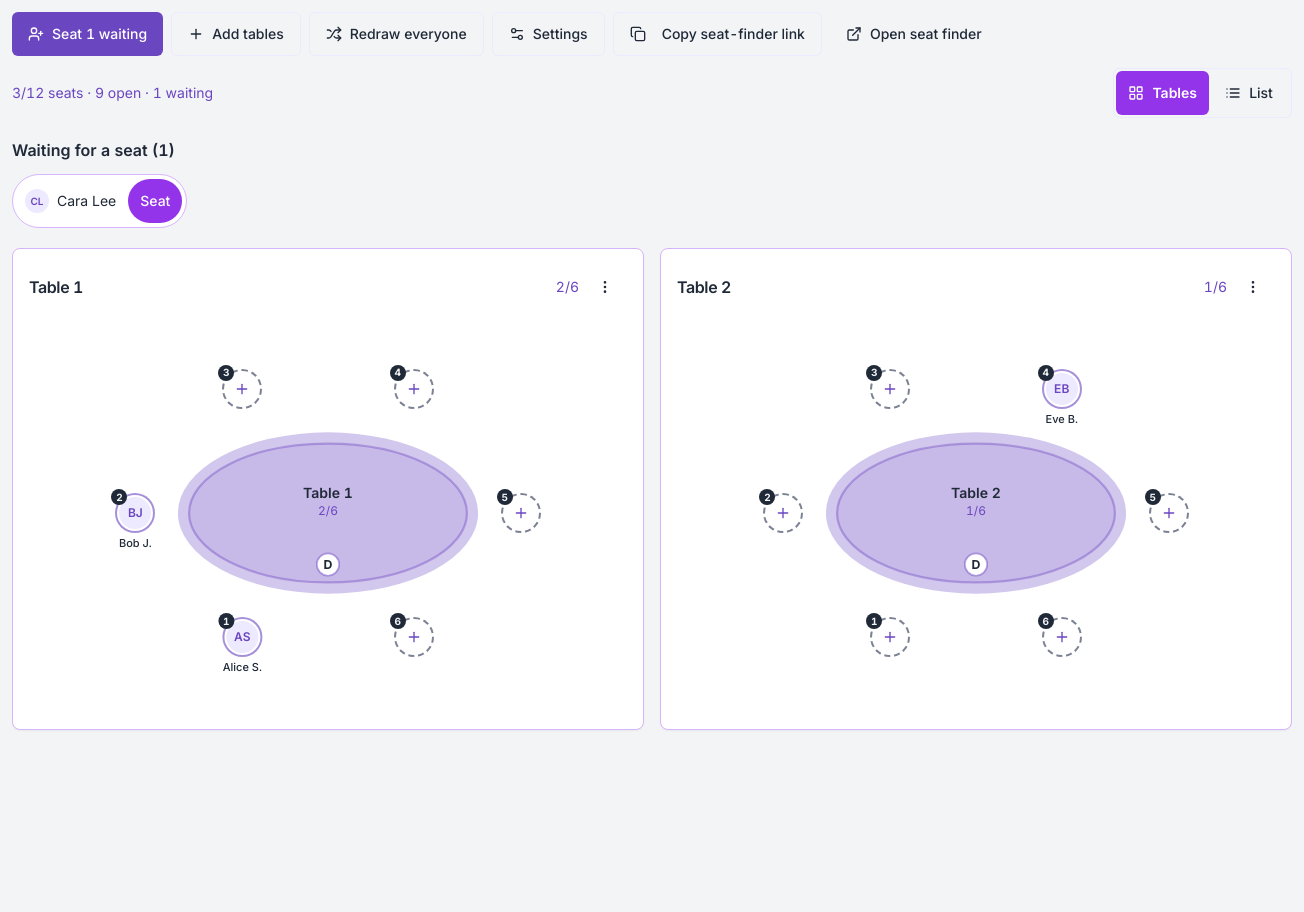
SeatingPanel: moving players by hand › unseats the player picked up, and puts a player down with Cancel
Click the button with aria-label "Seat 1: Alice Smith".
click(242, 646)  # box [219,617,266,675]
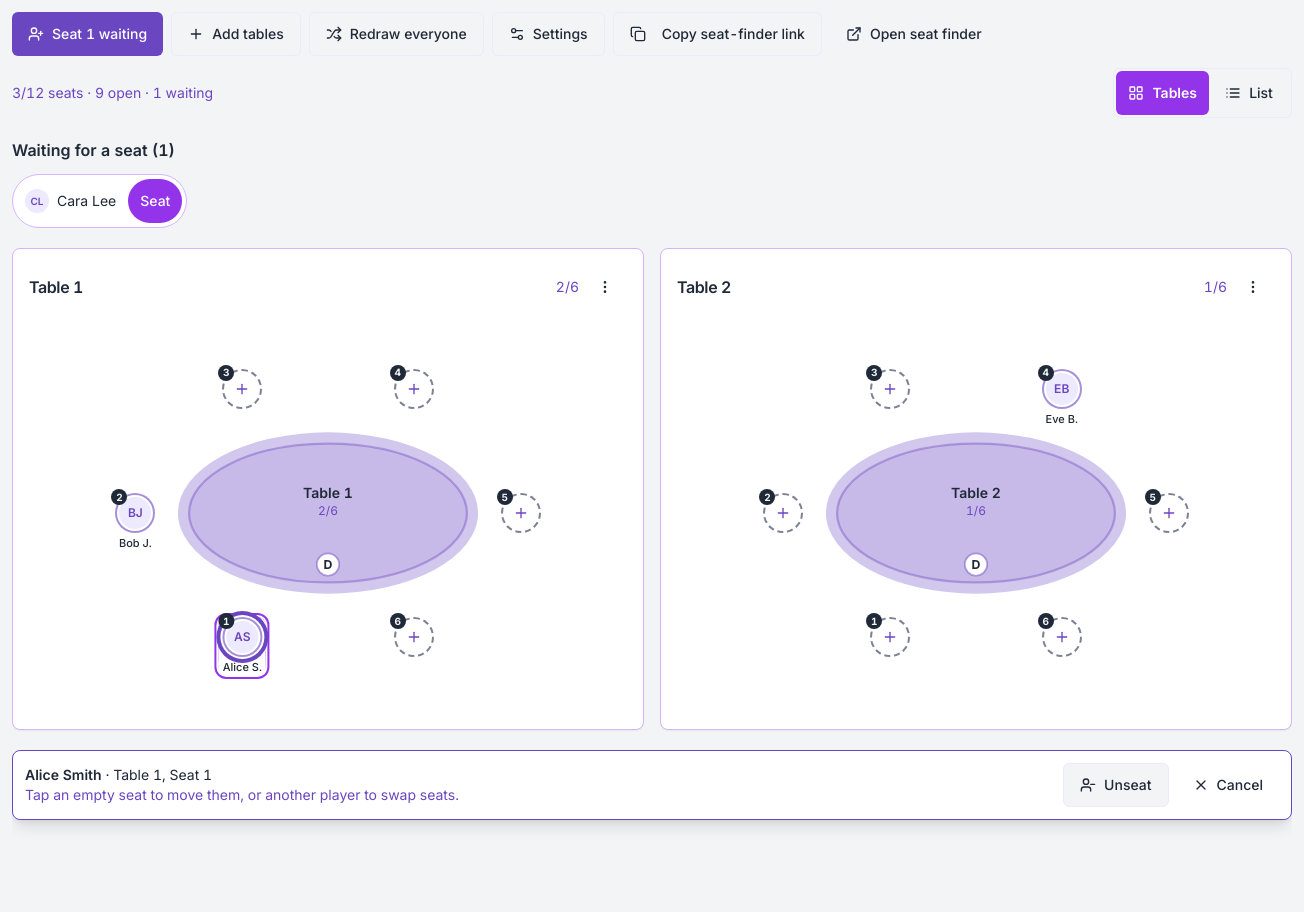
Click the button "Cancel".
click(1228, 785)  # box [1176,763,1279,807]
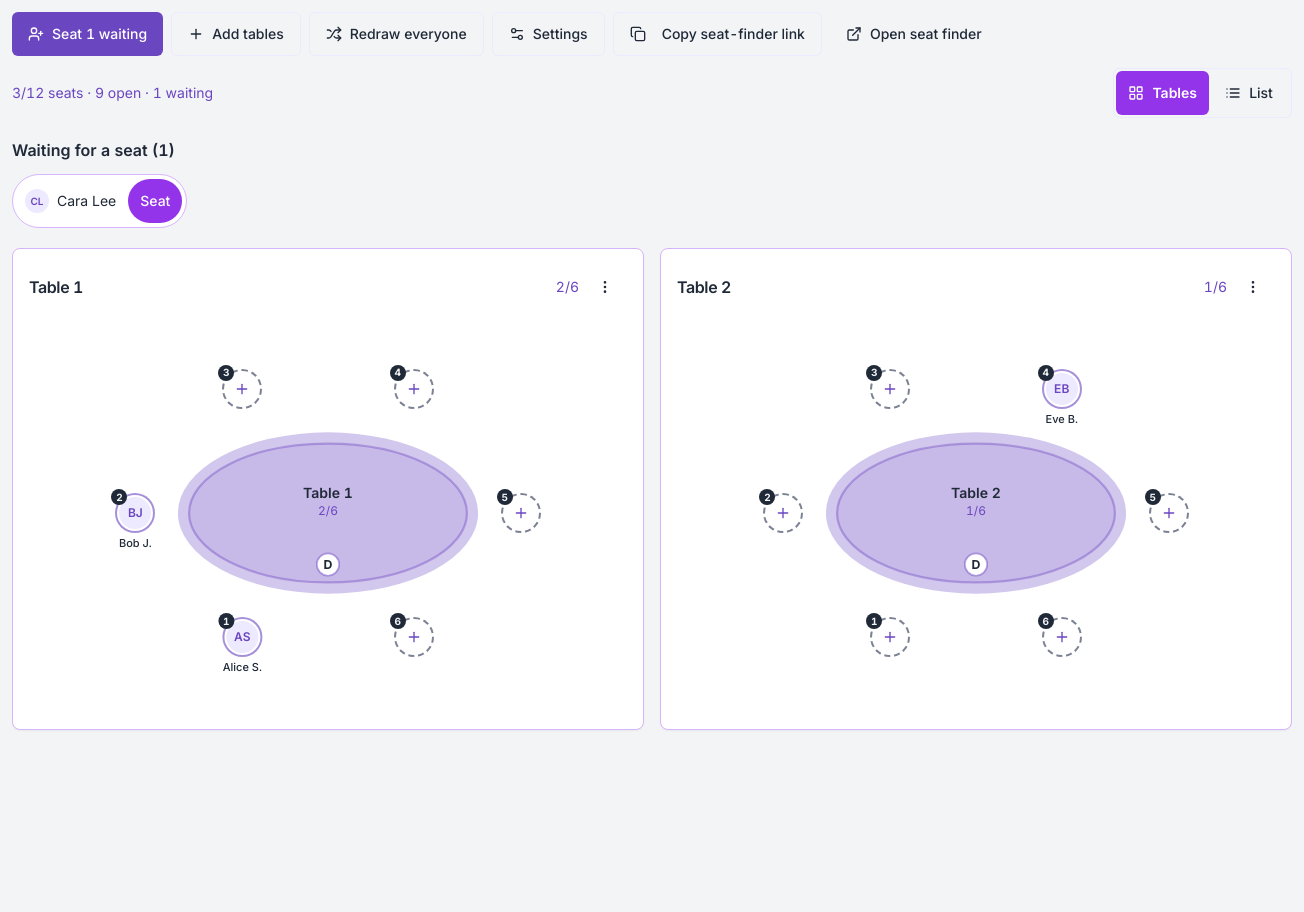
Now the button with aria-label "Seat 1: Alice Smith" is not pressed, box [219,617,266,675]
Click the button with aria-label "Seat 2: Bob Jones".
click(135, 522)  # box [113,493,157,551]
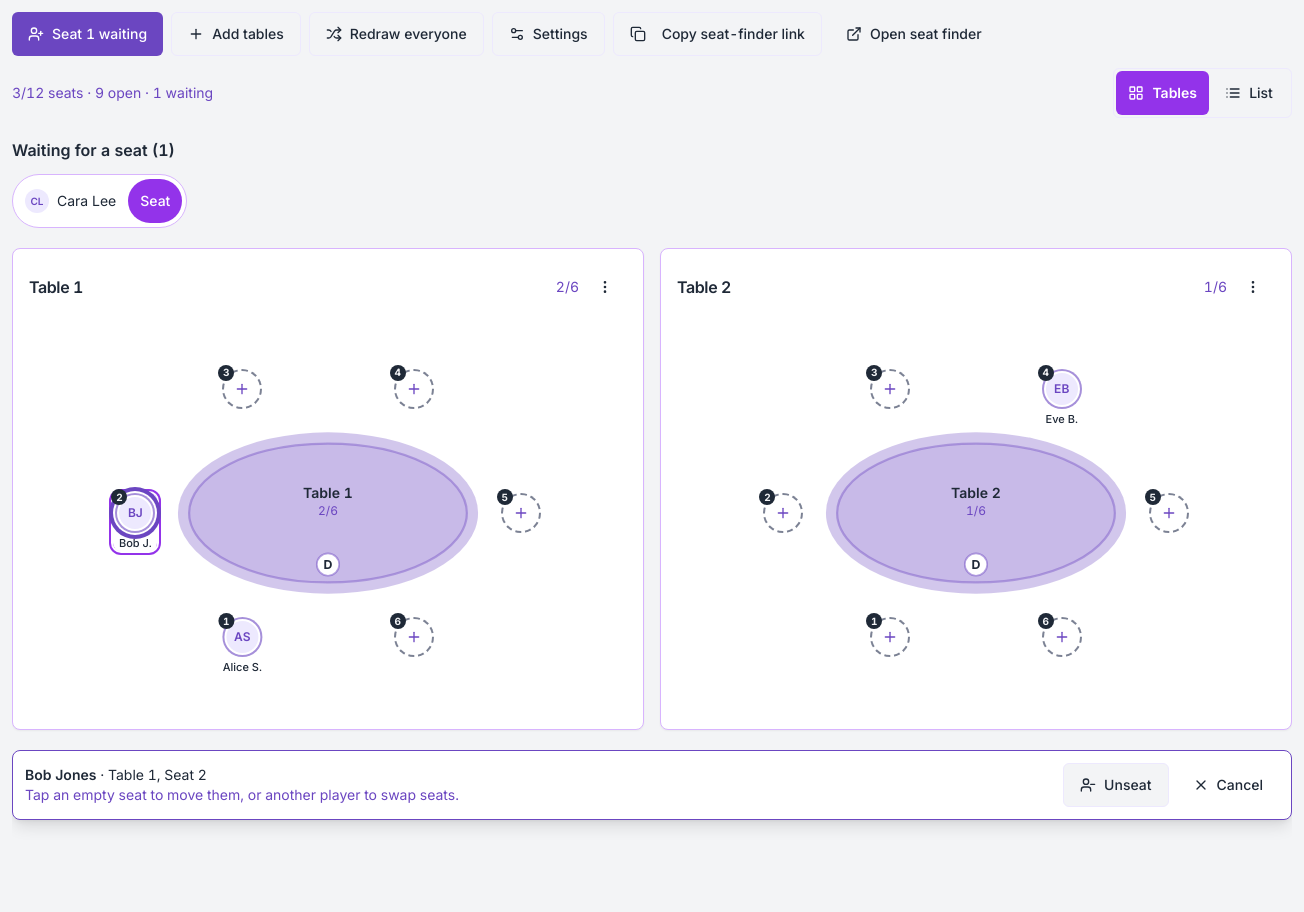
Click the button "Unseat".
click(1116, 785)  # box [1063,763,1168,807]
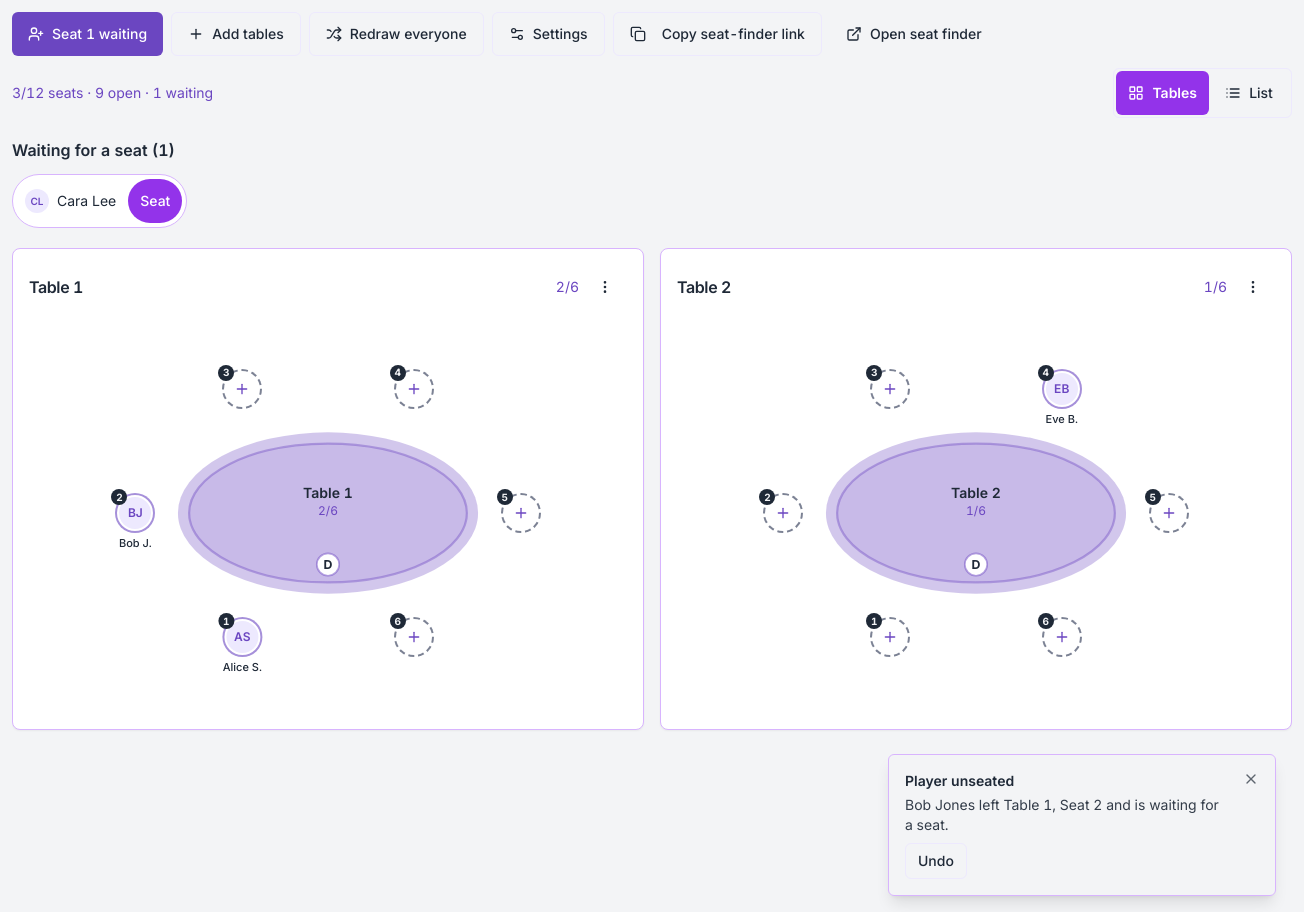
Now the text "Bob Jones left Table 1, Seat 2 and is waiting for a seat." is shown, box [905,795,1227,835]
